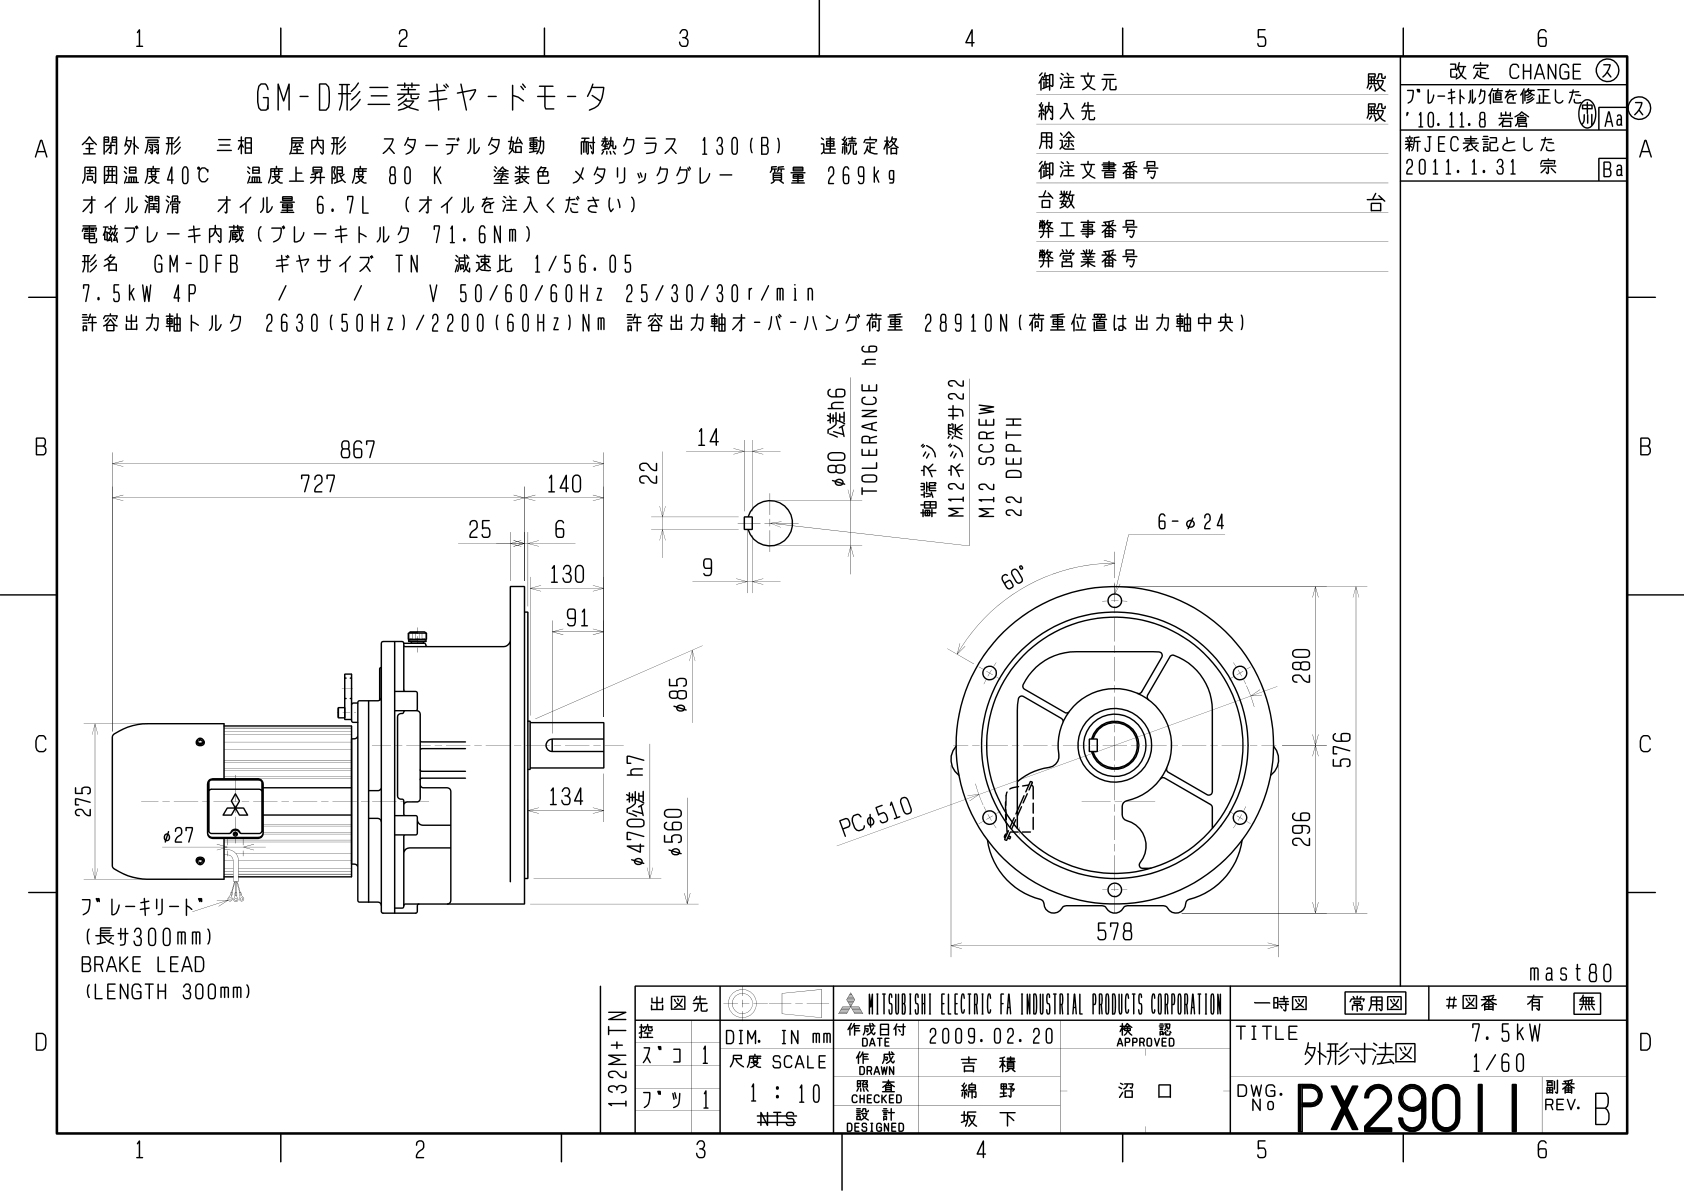GM_D_屋内＿三相_フランジ: (31, 22, 1684, 1191)
